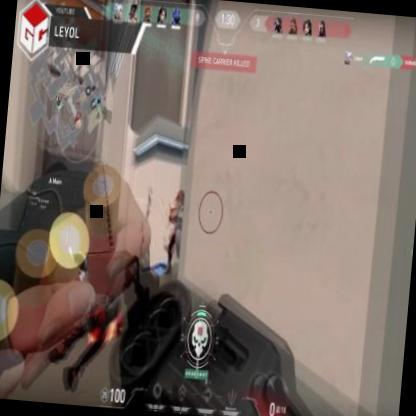enemy: (164, 190, 189, 276)
enemy_head: (176, 193, 183, 209)
